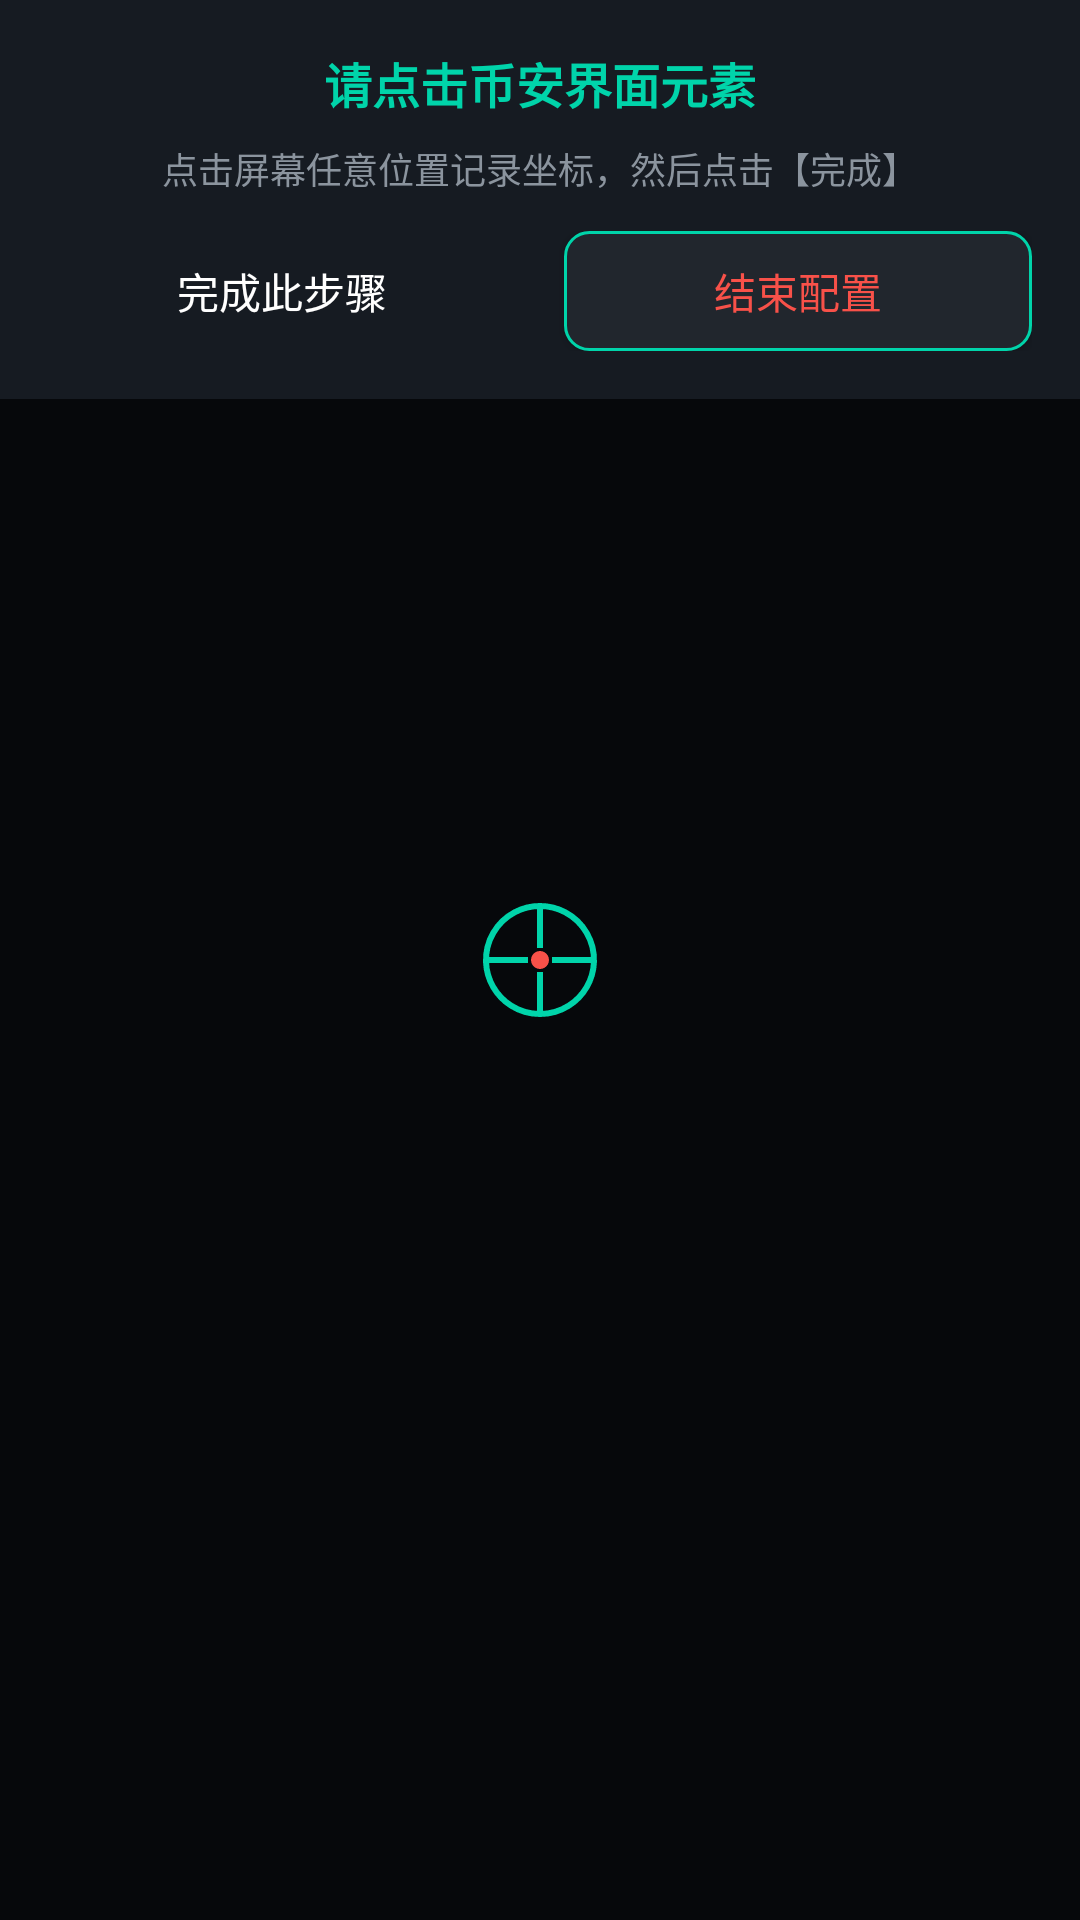

Icon click points for this 1080px x 1920px phone screenshot, format (x,y):
crosshair: (540,960)
